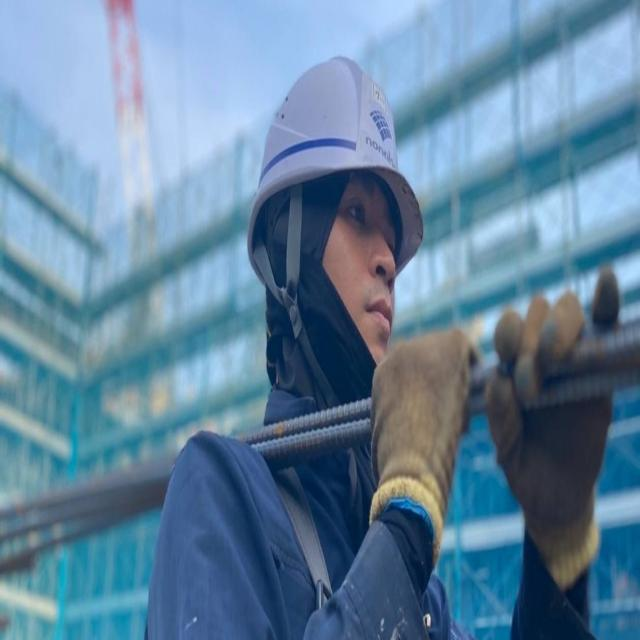helmet: (254, 56, 411, 185)
no-goggles: (302, 184, 406, 264)
